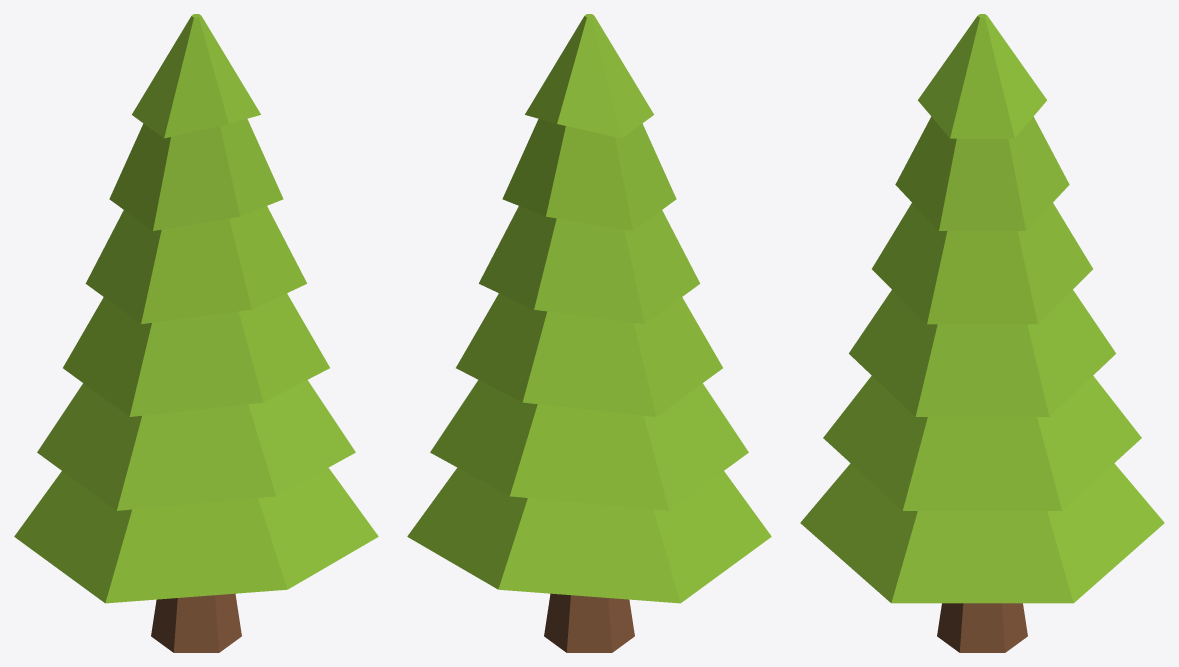
Rendered from natures-fir-tree.glb.
3 renders of one model, left to right at view 1: azimuth 30°, elevation 25°; view 2: azimuth 150°, elevation 25°; view 3: azimuth 270°, elevation 25°, orthographic.
Parts seen in each view (by area): view 1: model; view 2: model; view 3: model.
Part boxes in pixels (bbox=[...]): model: bbox=[14, 14, 378, 652]; model: bbox=[407, 14, 771, 652]; model: bbox=[800, 14, 1164, 652].
Size of the model in its own units: 3.39 by 7.35 by 3.92.
1 material, 1 textured.
